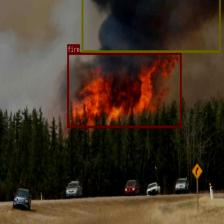fire: (67, 52, 181, 127)
smoke: (81, 0, 220, 52)
